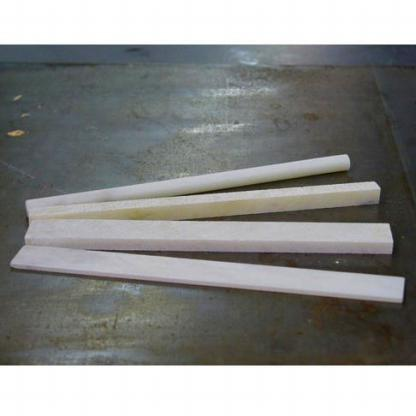Sedimentary_Chalk: (4, 144, 408, 304)
